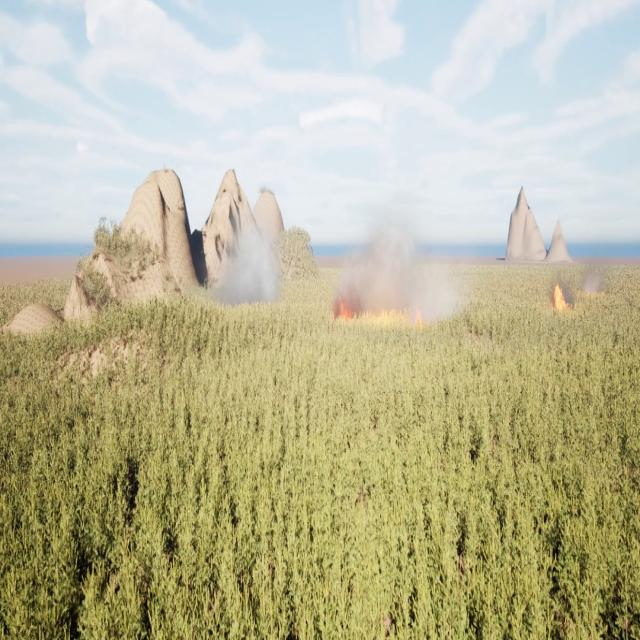fire: (549, 284, 571, 309), (333, 296, 352, 321)
smoke: (331, 199, 460, 325), (210, 219, 282, 302), (579, 266, 603, 296)
